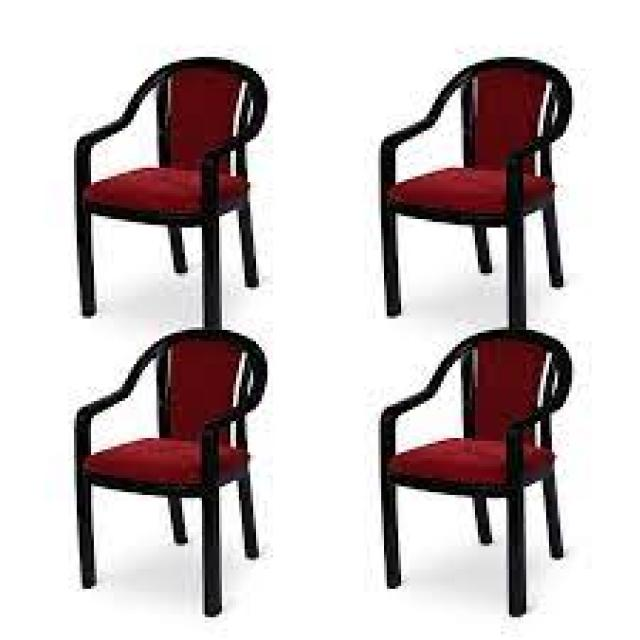chair: (2, 306, 337, 640), (24, 22, 329, 352), (346, 311, 631, 640), (344, 46, 611, 348)
